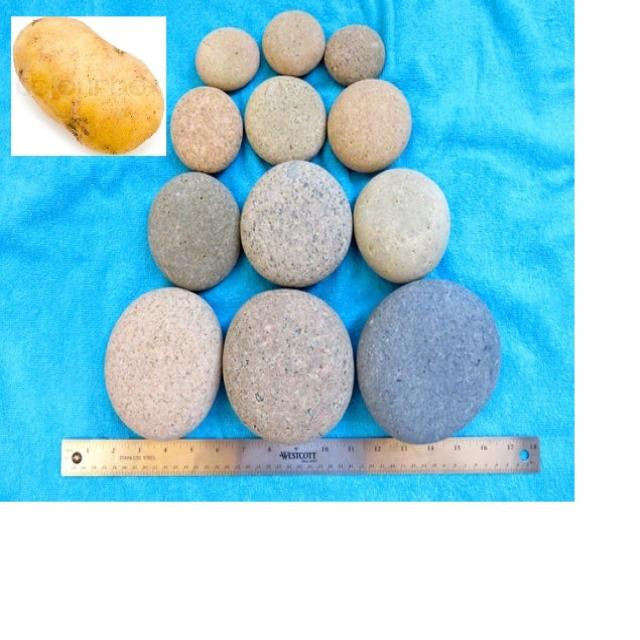potato: (13, 18, 164, 154)
